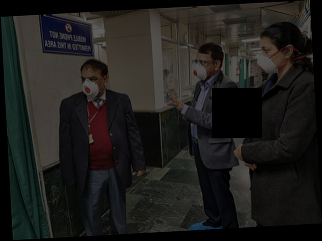with_mask: (256, 43, 283, 75), (80, 73, 104, 98), (192, 56, 214, 81)
